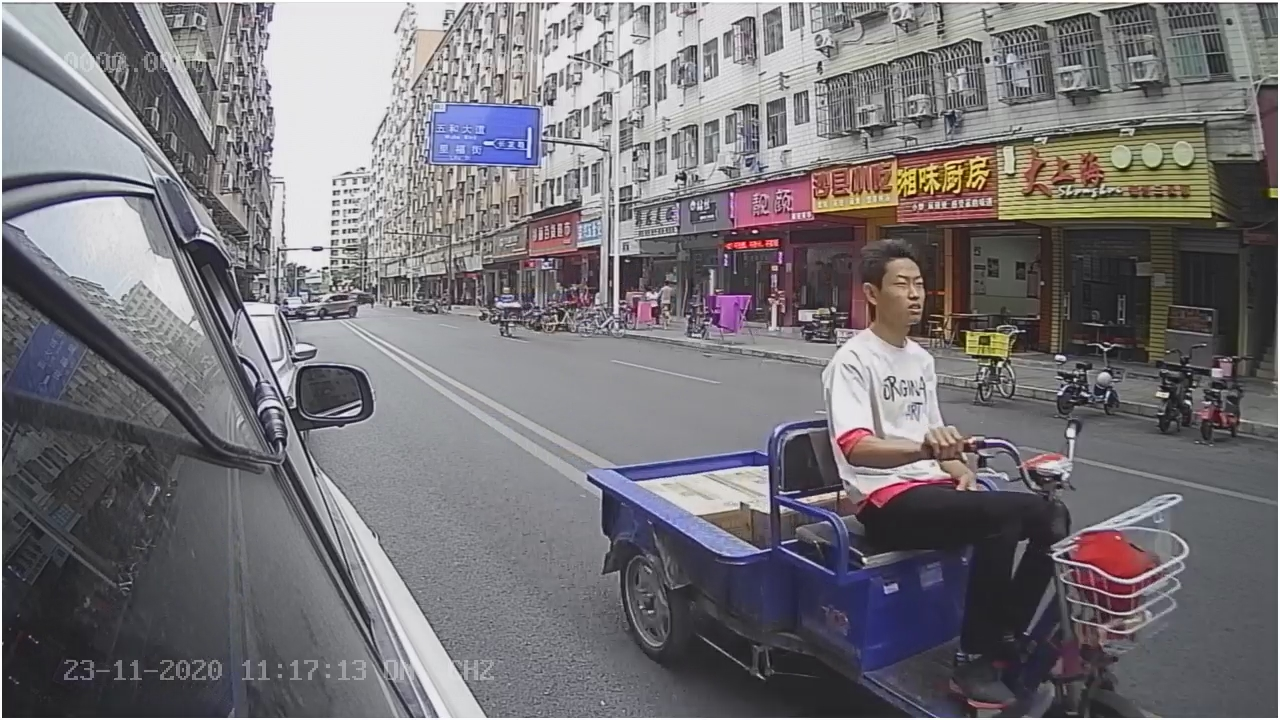person: (818, 234, 950, 418)
